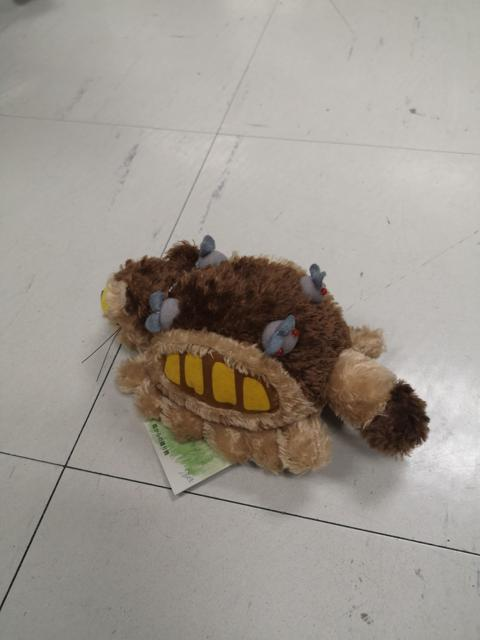nekobus: (87, 227, 438, 487)
